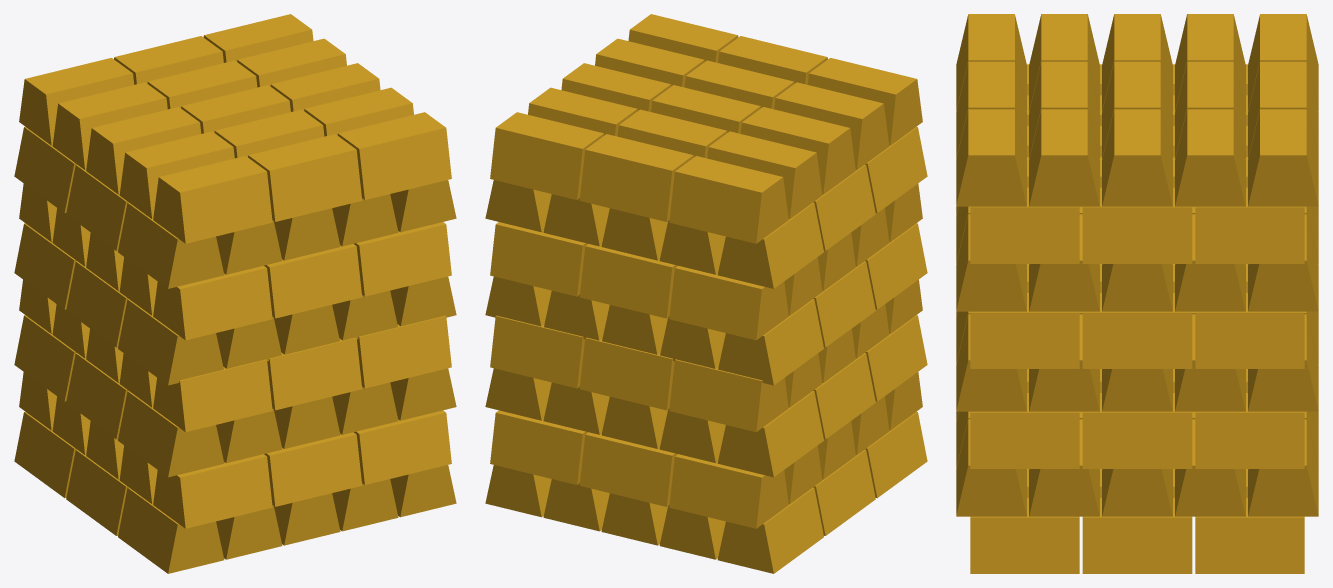
File: Gold Stockpile.fbx
The picture shows the model from 3 angles, left to right: view 1: azimuth 30°, elevation 25°; view 2: azimuth 150°, elevation 25°; view 3: azimuth 270°, elevation 25°; orthographic projection. The views are drawn at different scales.
Parts seen in each view (by area): view 1: Stockpile Layer 4, Stockpile Layer 1, Stockpile Layer 3, Stockpile Layer 2; view 2: Stockpile Layer 4, Stockpile Layer 1, Stockpile Layer 3, Stockpile Layer 2; view 3: Stockpile Layer 4, Stockpile Layer 1, Stockpile Layer 3, Stockpile Layer 2.
Part boxes in pixels (bbox=[...]): Stockpile Layer 4: bbox=[14, 14, 456, 288]; Stockpile Layer 1: bbox=[14, 372, 456, 573]; Stockpile Layer 3: bbox=[14, 183, 456, 385]; Stockpile Layer 2: bbox=[14, 279, 456, 477]; Stockpile Layer 4: bbox=[485, 14, 927, 288]; Stockpile Layer 1: bbox=[485, 372, 927, 573]; Stockpile Layer 3: bbox=[485, 183, 927, 385]; Stockpile Layer 2: bbox=[485, 279, 927, 477]; Stockpile Layer 4: bbox=[956, 14, 1318, 263]; Stockpile Layer 1: bbox=[956, 411, 1318, 573]; Stockpile Layer 3: bbox=[956, 206, 1318, 368]; Stockpile Layer 2: bbox=[956, 311, 1318, 468].
Bounding box in the file's own units: 99.49 × 99.49 × 125.
